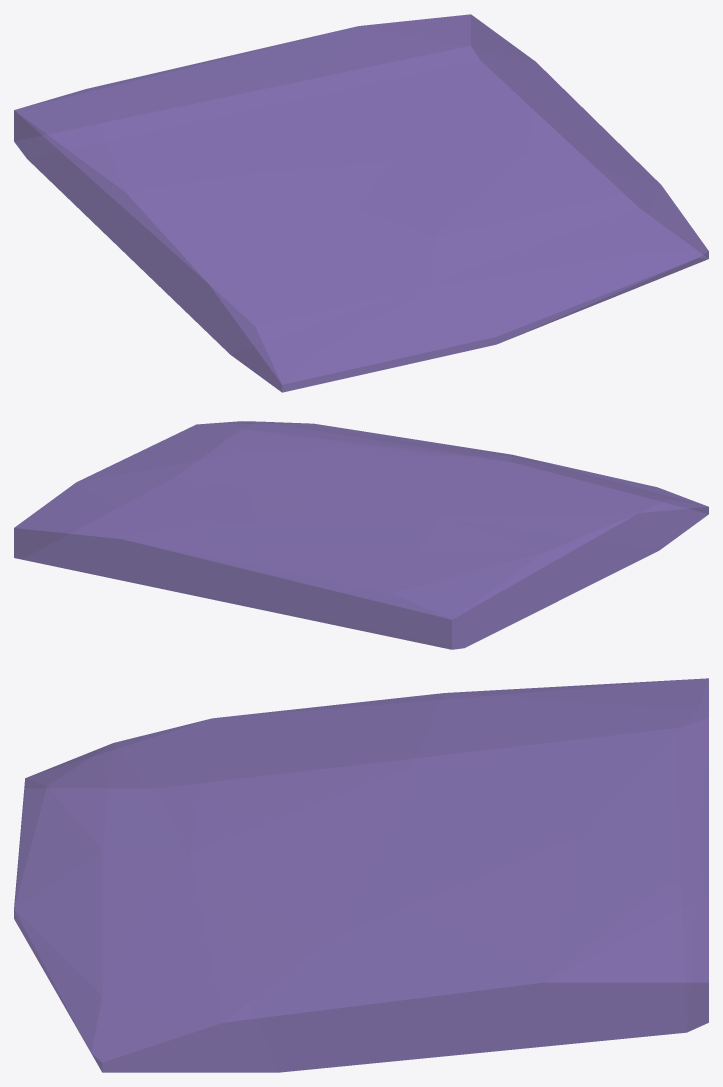
The picture shows the model from 3 angles, top to bottom: view 1: azimuth 30°, elevation 25°; view 2: azimuth 150°, elevation 25°; view 3: azimuth 270°, elevation 25°; orthographic projection. The views are drawn at different scales.
Visible parts, largest first — view 1: Shape_IndexedFaceSet.012_Shape_IndexedFaceSet.10722; view 2: Shape_IndexedFaceSet.012_Shape_IndexedFaceSet.10722; view 3: Shape_IndexedFaceSet.012_Shape_IndexedFaceSet.10722.
Part boxes in pixels (<box>): Shape_IndexedFaceSet.012_Shape_IndexedFaceSet.10722: <box>14,14,708,392</box>; Shape_IndexedFaceSet.012_Shape_IndexedFaceSet.10722: <box>14,421,708,649</box>; Shape_IndexedFaceSet.012_Shape_IndexedFaceSet.10722: <box>14,678,708,1072</box>.
Bounding box in the file's own units: 0.2015 × 0.0396 × 0.2081.
